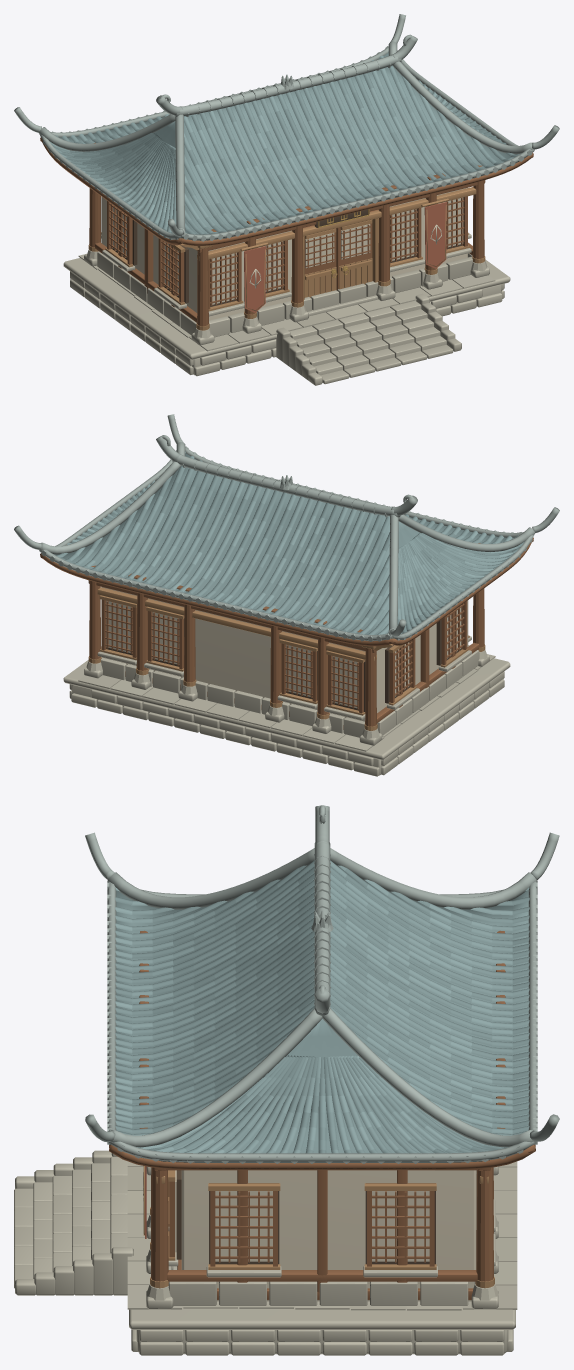
File: hall.glb
The picture shows the model from 3 angles, top to bottom: view 1: azimuth 30°, elevation 25°; view 2: azimuth 150°, elevation 25°; view 3: azimuth 270°, elevation 25°; orthographic projection. The views are drawn at different scales.
Parts seen in each view (by area): view 1: Hall • Blue grey fired tiles, Hall • Pale mountain limestone, Hall • Oiled cedar timber, Hall • Weathered celadon ridges, Hall • Warm lime plaster, Hall • Honey cedar cut edges, Hall • Faded vermilion banner, Hall • Deep timber and tile joints; view 2: Hall • Blue grey fired tiles, Hall • Pale mountain limestone, Hall • Oiled cedar timber, Hall • Weathered celadon ridges, Hall • Warm lime plaster, Hall • Honey cedar cut edges, Hall • Deep timber and tile joints; view 3: Hall • Blue grey fired tiles, Hall • Pale mountain limestone, Hall • Weathered celadon ridges, Hall • Warm lime plaster, Hall • Oiled cedar timber, Hall • Honey cedar cut edges, Hall • Deep timber and tile joints.
Boxes of the visible parts, bbox=[...] form: Hall • Blue grey fired tiles: bbox=[49, 51, 520, 240]; Hall • Pale mountain limestone: bbox=[63, 232, 510, 385]; Hall • Oiled cedar timber: bbox=[40, 137, 533, 330]; Hall • Weathered celadon ridges: bbox=[14, 14, 559, 241]; Hall • Warm lime plaster: bbox=[101, 187, 467, 320]; Hall • Honey cedar cut edges: bbox=[88, 187, 485, 330]; Hall • Faded vermilion banner: bbox=[244, 202, 446, 312]; Hall • Deep timber and tile joints: bbox=[112, 209, 462, 306]; Hall • Blue grey fired tiles: bbox=[53, 451, 524, 641]; Hall • Pale mountain limestone: bbox=[63, 636, 510, 776]; Hall • Oiled cedar timber: bbox=[40, 537, 533, 730]; Hall • Weathered celadon ridges: bbox=[14, 414, 559, 641]; Hall • Warm lime plaster: bbox=[101, 587, 468, 721]; Hall • Honey cedar cut edges: bbox=[88, 587, 485, 730]; Hall • Deep timber and tile joints: bbox=[106, 618, 461, 711]; Hall • Blue grey fired tiles: bbox=[110, 860, 534, 1162]; Hall • Pale mountain limestone: bbox=[14, 1150, 517, 1355]; Hall • Weathered celadon ridges: bbox=[85, 805, 559, 1163]; Hall • Warm lime plaster: bbox=[143, 1170, 476, 1301]; Hall • Oiled cedar timber: bbox=[109, 930, 535, 1299]; Hall • Honey cedar cut edges: bbox=[143, 1166, 494, 1287]; Hall • Deep timber and tile joints: bbox=[176, 1170, 476, 1264].
Size of the model in its own units: 12.21 by 6.83 by 9.77.
